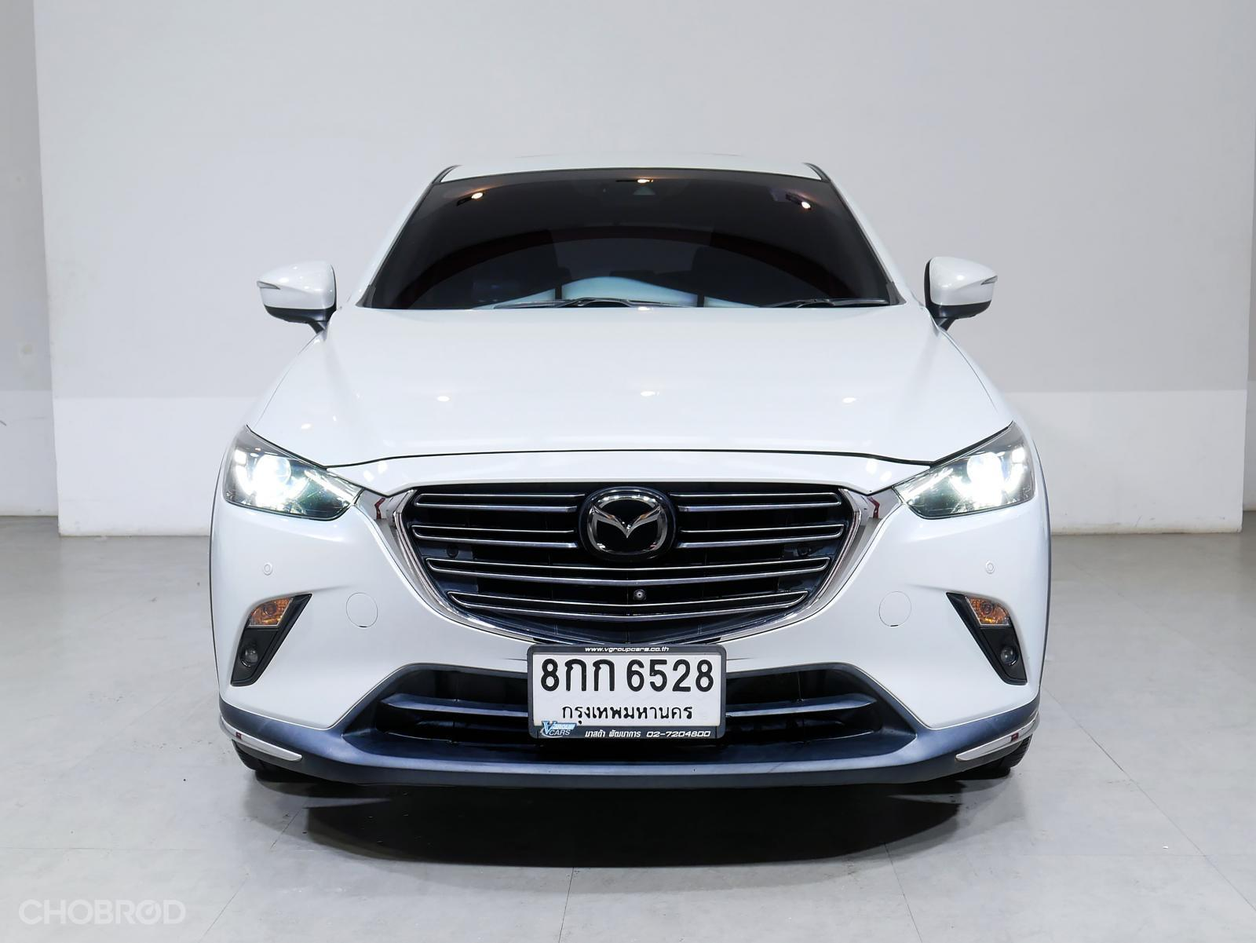license-plate: (526, 643, 725, 740)
